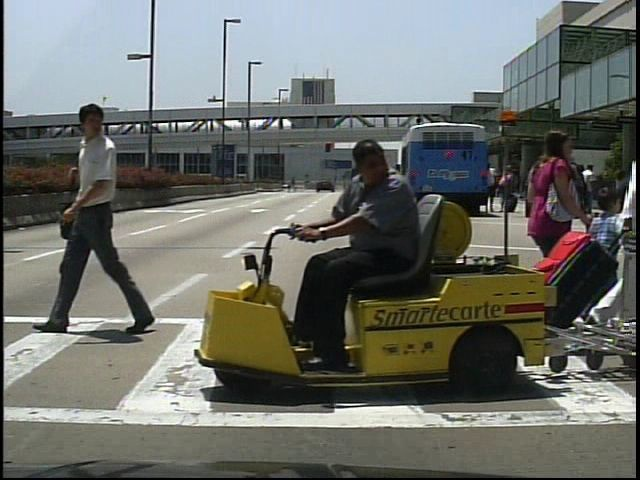person: (282, 134, 432, 374), (66, 100, 137, 337), (519, 122, 584, 354), (581, 118, 638, 344), (579, 180, 623, 326), (580, 162, 601, 219), (480, 162, 500, 217), (501, 164, 520, 218)
